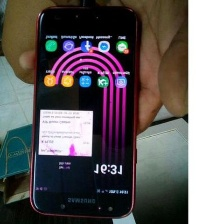phone: (26, 0, 147, 222)
